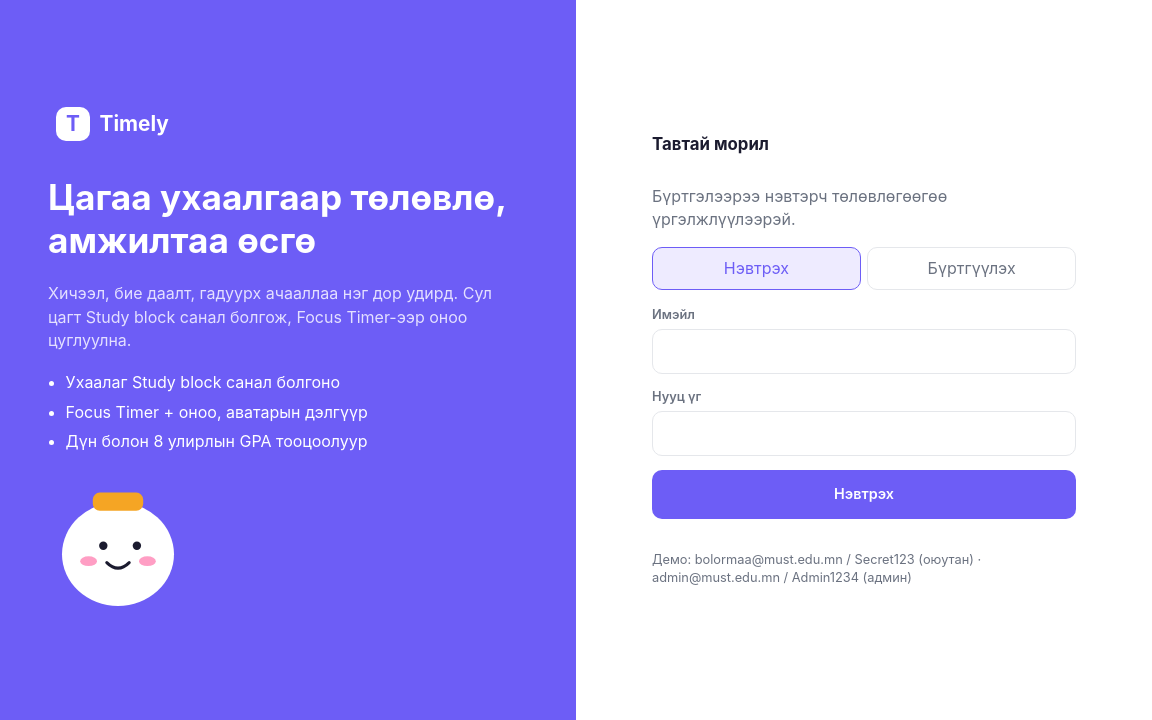
it: authenticate › буруу нууц үг -> алдаа
Type "bolormaa@must.edu.mn" into the field with test id "field-email". click: {"x": 864, "y": 351}
box: [652,329,1076,374]
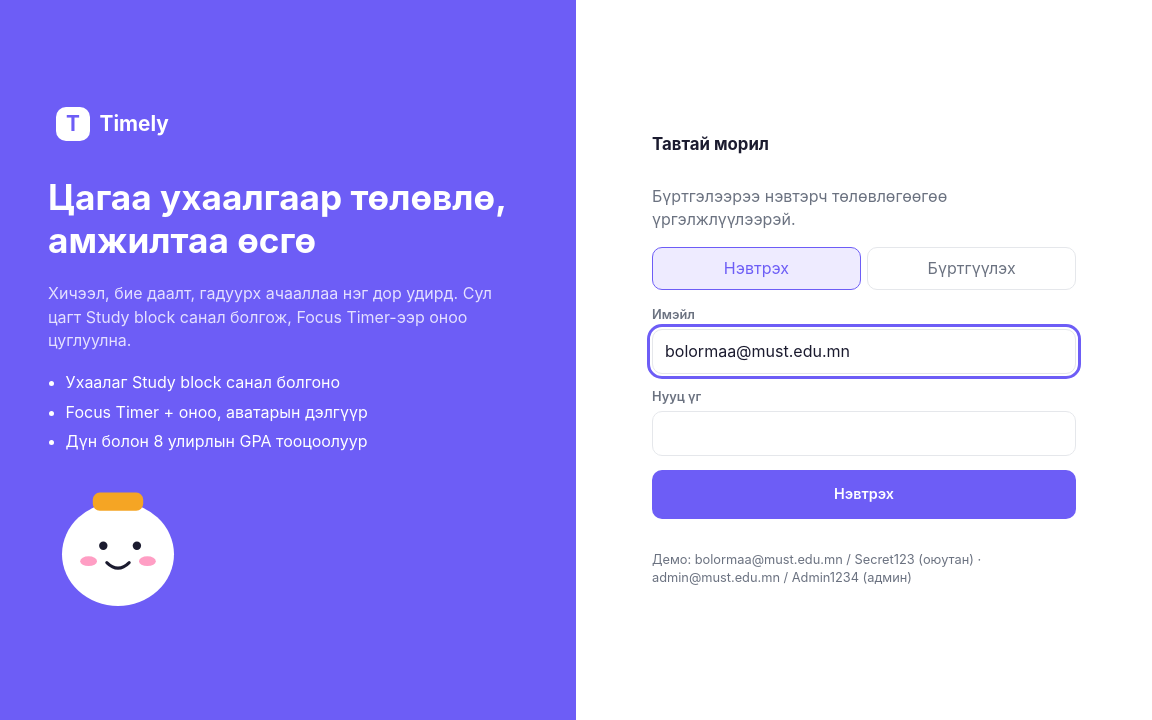
Type "WrongPass1" into the password field with test id "field-password". click: {"x": 864, "y": 434}
box: [652,411,1076,456]
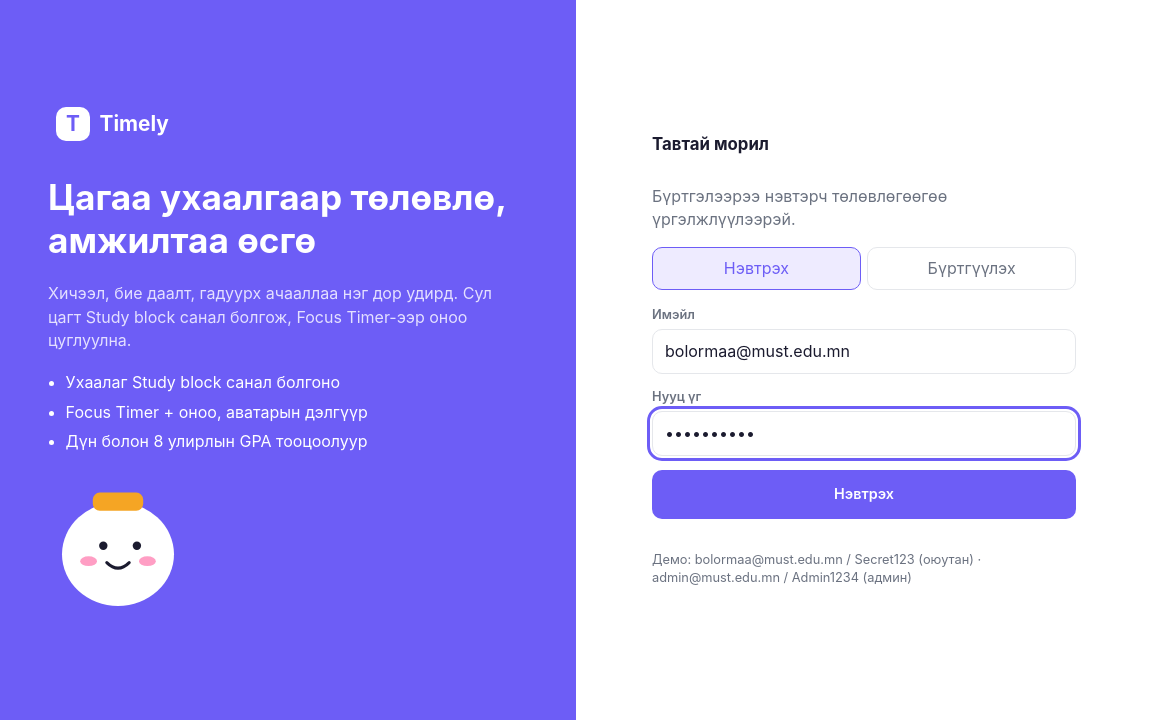
Click the button with test id "submit". click: {"x": 864, "y": 494}
box: [652,470,1076,519]
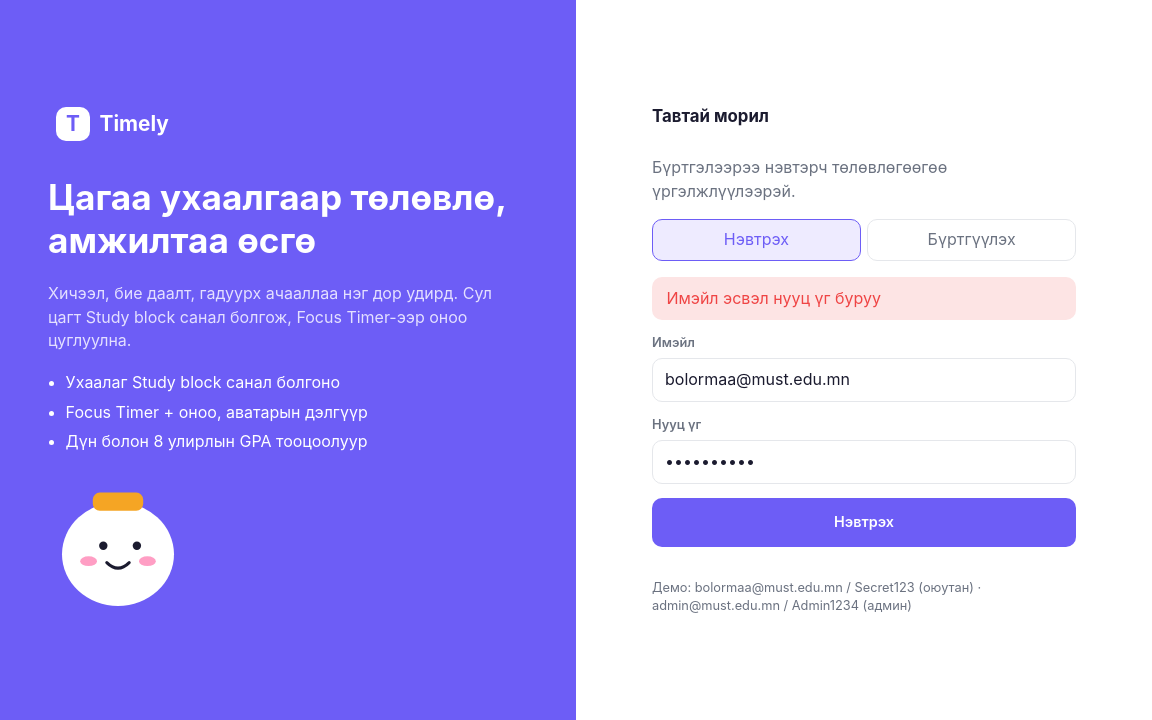
Expected: the message with test id "error-banner" shows "буруу", [666,288,881,308]
